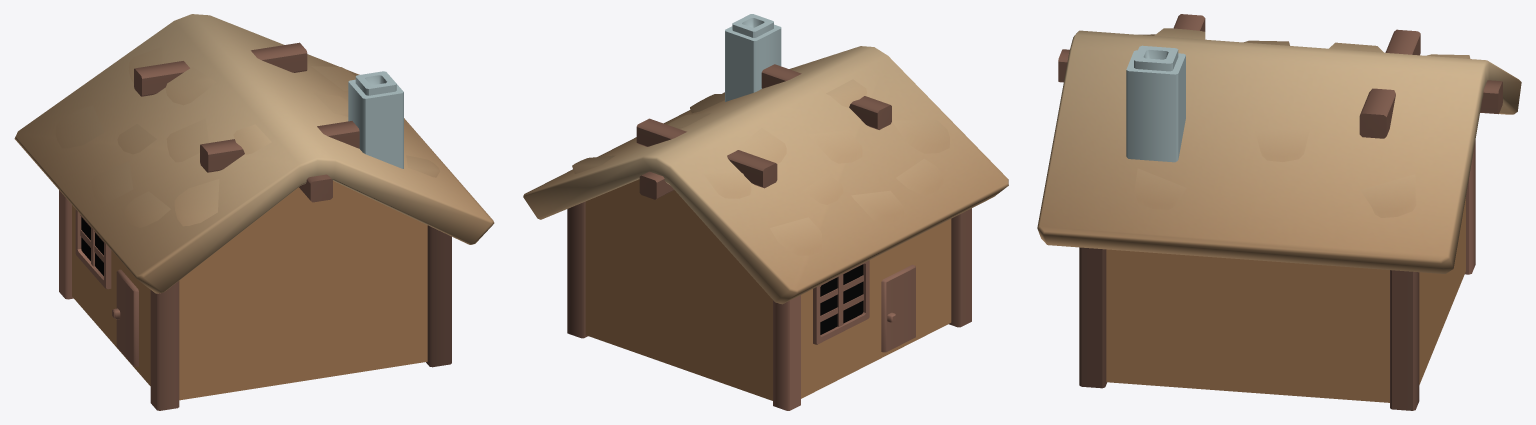
File: mdl_house.fbx
The picture shows the model from 3 angles, left to right: view 1: azimuth 30°, elevation 25°; view 2: azimuth 150°, elevation 25°; view 3: azimuth 270°, elevation 25°; orthographic projection. The views are drawn at different scales.
Visible parts, largest first — view 1: mdl_house, mdl_roof, mdl_roofDetails; view 2: mdl_house, mdl_roof, mdl_roofDetails; view 3: mdl_roof, mdl_house, mdl_roofDetails.
Boxes of the visible parts, x1,y1,x2,y2 form: mdl_house: (59,42,451,410); mdl_roof: (14,14,494,293); mdl_roofDetails: (55,47,439,227); mdl_house: (567,14,971,410); mdl_roof: (523,46,1008,304); mdl_roofDetails: (572,79,949,255); mdl_roof: (1037,30,1521,273); mdl_house: (1058,14,1502,410); mdl_roofDetails: (1134,28,1470,217).
Size of the model in its own units: 9.16 by 6.25 by 8.91.
